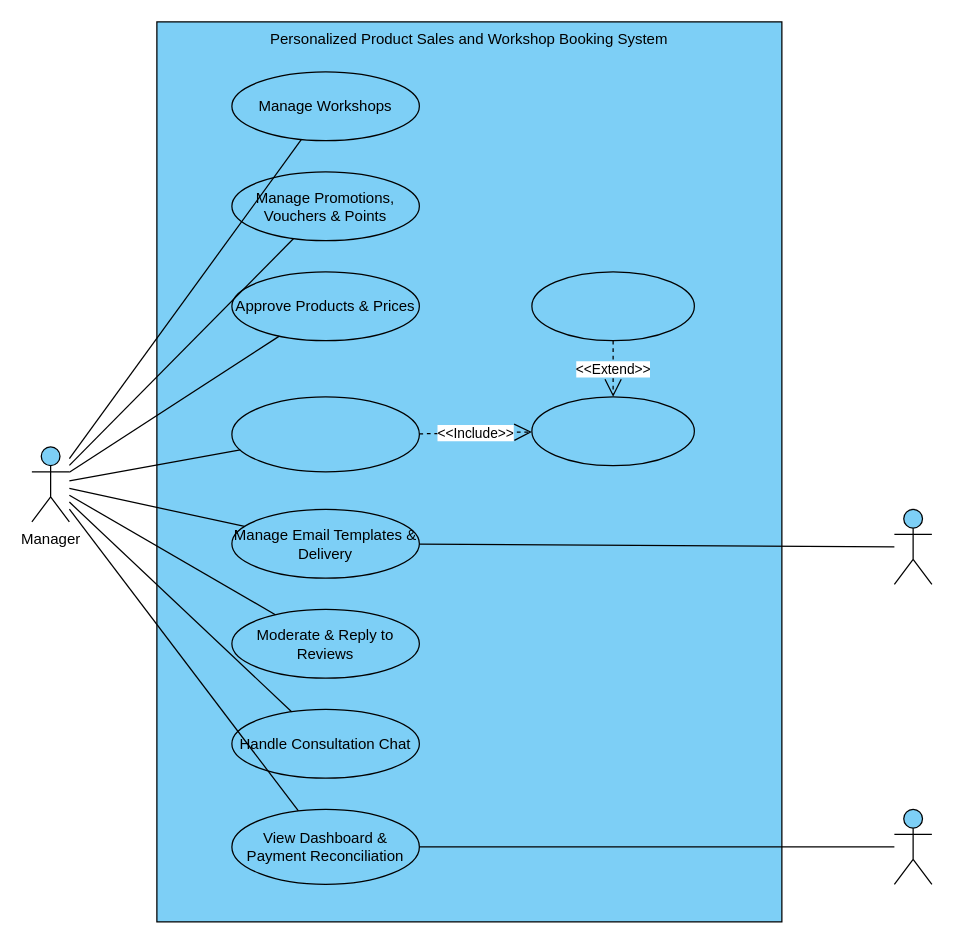
The diagram is 964 pixels wide and 951 high, and some of its shapes have lost their labels. The shapes that lost their labels are listed below. From the top down, each one's centre as x and y in pixels, then its label:
At (x=612, y=306): "Record Rejection Reason".
At (x=325, y=434): "Review Design Request & Approve Quote".
At (x=612, y=431): "Record Review Decision".
At (x=912, y=546): "Mail Gateway".
At (x=912, y=846): "Payment Gateway".
